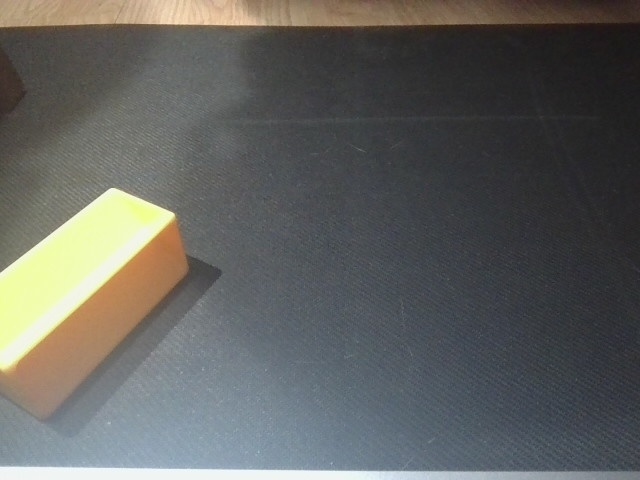YellowSample: (1, 185, 192, 427)
